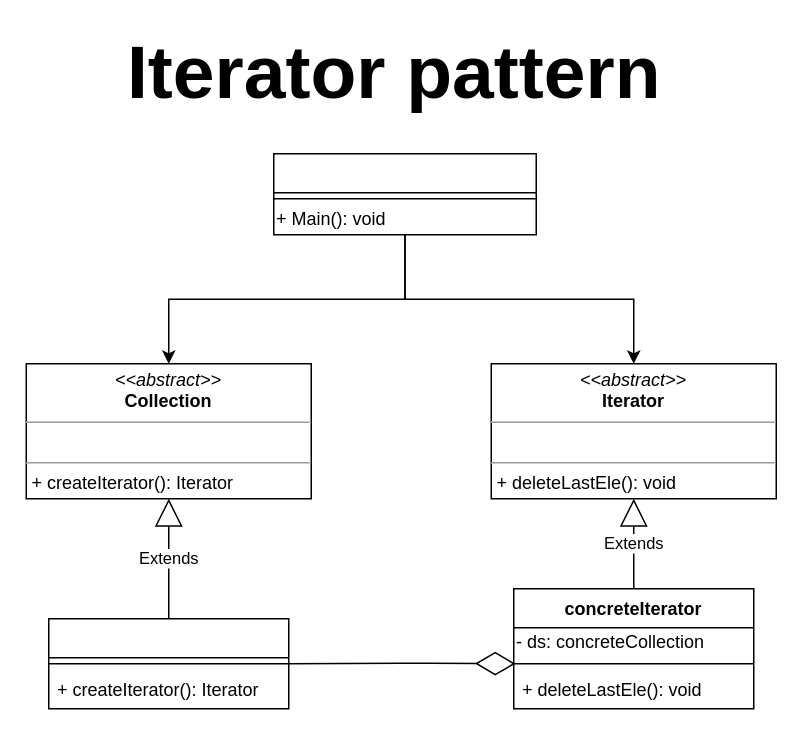
Image size: 803x738. Some labels were removed from this diagram. The shapes that lost their labels are listed below. From the top down, each one's box as (x1, y1, x2, y2) in pixels, then its label:
(272, 152, 536, 235): client
(47, 617, 289, 709): concreteCollection
